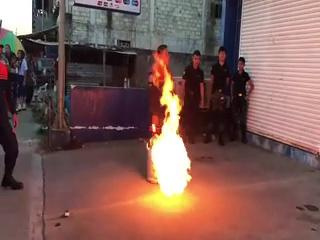Fire: (143, 94, 200, 197)
